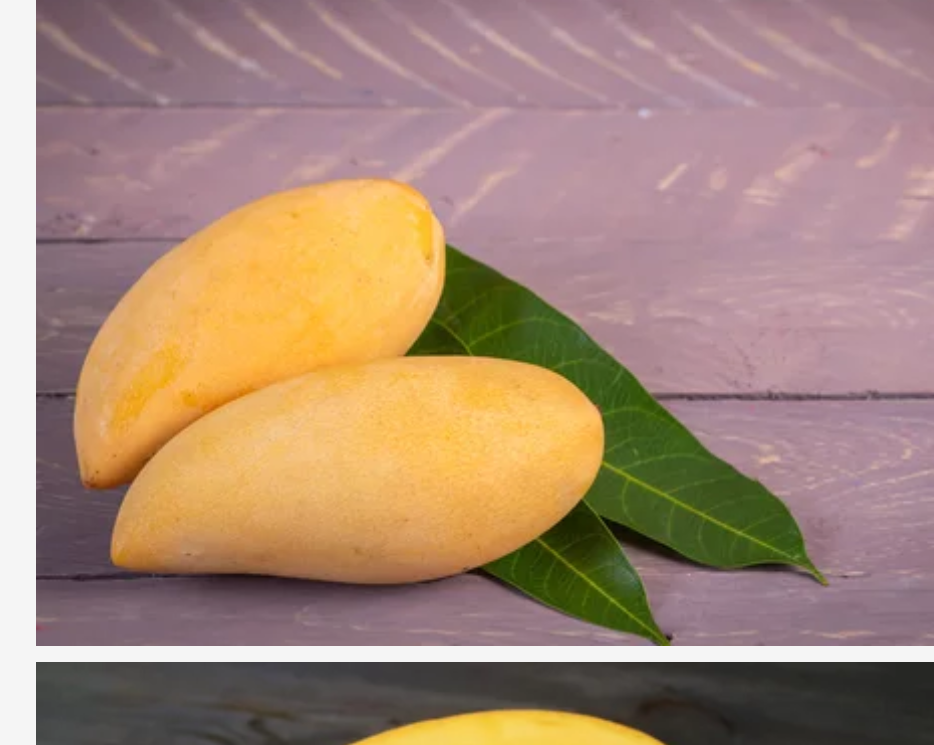mango: (72, 174, 445, 488), (107, 357, 608, 585)
